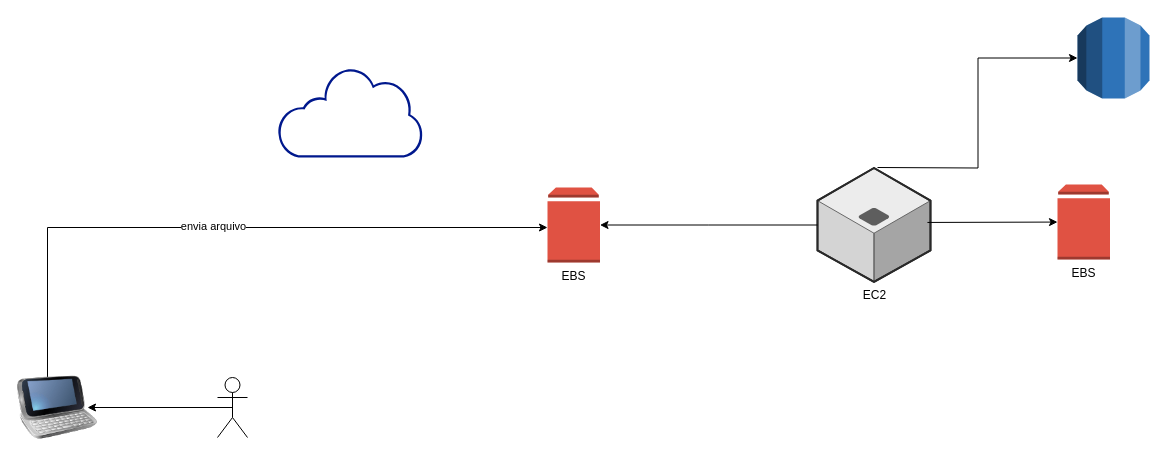
Image size: 1167x476. Some labels were removed from this diagram. The centre of each missing label's shape, as x and y in pixels:
"Actor" goes at point 232,407.
"RDS" goes at point 1113,57.
